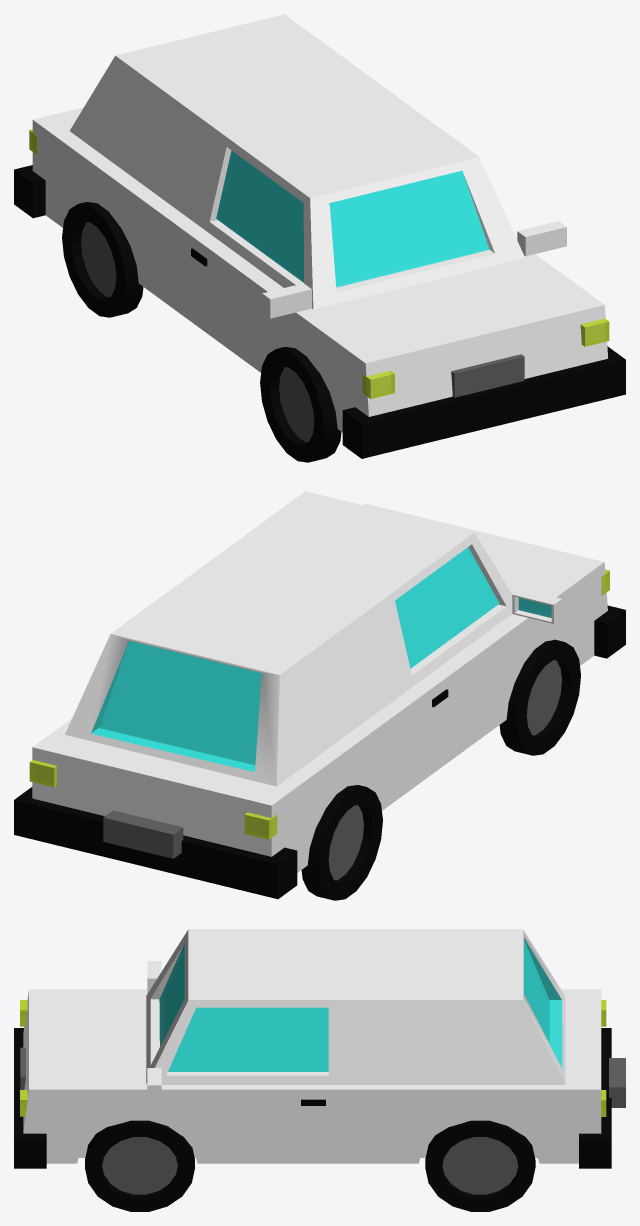
Rendered from lowpoly car1 white.fbx.
The picture shows the model from 3 angles, top to bottom: view 1: azimuth 30°, elevation 25°; view 2: azimuth 150°, elevation 25°; view 3: azimuth 270°, elevation 25°; orthographic projection. The views are drawn at different scales.
Visible parts, largest first — view 1: Box002, Box009, Box003, Cylinder026, Cylinder008, Box012, Box004, Box013, Box008, Box173, Box006, Box005; view 2: Box002, Box178, Box013, Cylinder008, Cylinder026, Box012, Box050, Box003, Box008, Box016, Box015; view 3: Box002, Box014, Cylinder025, Cylinder027, Box013, Box003, Box009, Box178, Box050, Box173.
Boxes of the visible parts, <box> form: Box002: <box>32,14,608,432</box>; Box009: <box>329,170,489,287</box>; Box003: <box>342,346,625,458</box>; Cylinder026: <box>260,347,341,462</box>; Cylinder008: <box>62,202,143,317</box>; Box012: <box>216,150,303,282</box>; Box004: <box>451,354,524,397</box>; Box013: <box>14,165,45,218</box>; Box008: <box>262,283,311,318</box>; Box173: <box>517,221,566,256</box>; Box006: <box>362,370,394,398</box>; Box005: <box>580,318,609,346</box>; Box002: <box>32,491,607,872</box>; Box178: <box>100,641,261,765</box>; Box013: <box>14,787,297,899</box>; Cylinder008: <box>301,785,382,900</box>; Cylinder026: <box>499,639,580,755</box>; Box012: <box>395,547,499,668</box>; Box050: <box>103,810,183,858</box>; Box003: <box>594,605,625,658</box>; Box008: <box>512,588,561,623</box>; Box016: <box>244,812,277,839</box>; Box015: <box>29,760,56,787</box>; Box002: <box>23,929,601,1163</box>; Box014: <box>168,1007,328,1071</box>; Cylinder025: <box>425,1120,535,1211</box>; Cylinder027: <box>85,1120,194,1211</box>; Box013: <box>579,1028,611,1168</box>; Box003: <box>14,1028,46,1168</box>; Box009: <box>159,943,184,1046</box>; Box178: <box>524,940,549,1042</box>; Box050: <box>609,1058,625,1107</box>; Box173: <box>147,1068,161,1101</box>.
Size of the model in its own units: 52.22 by 38.2 by 109.
